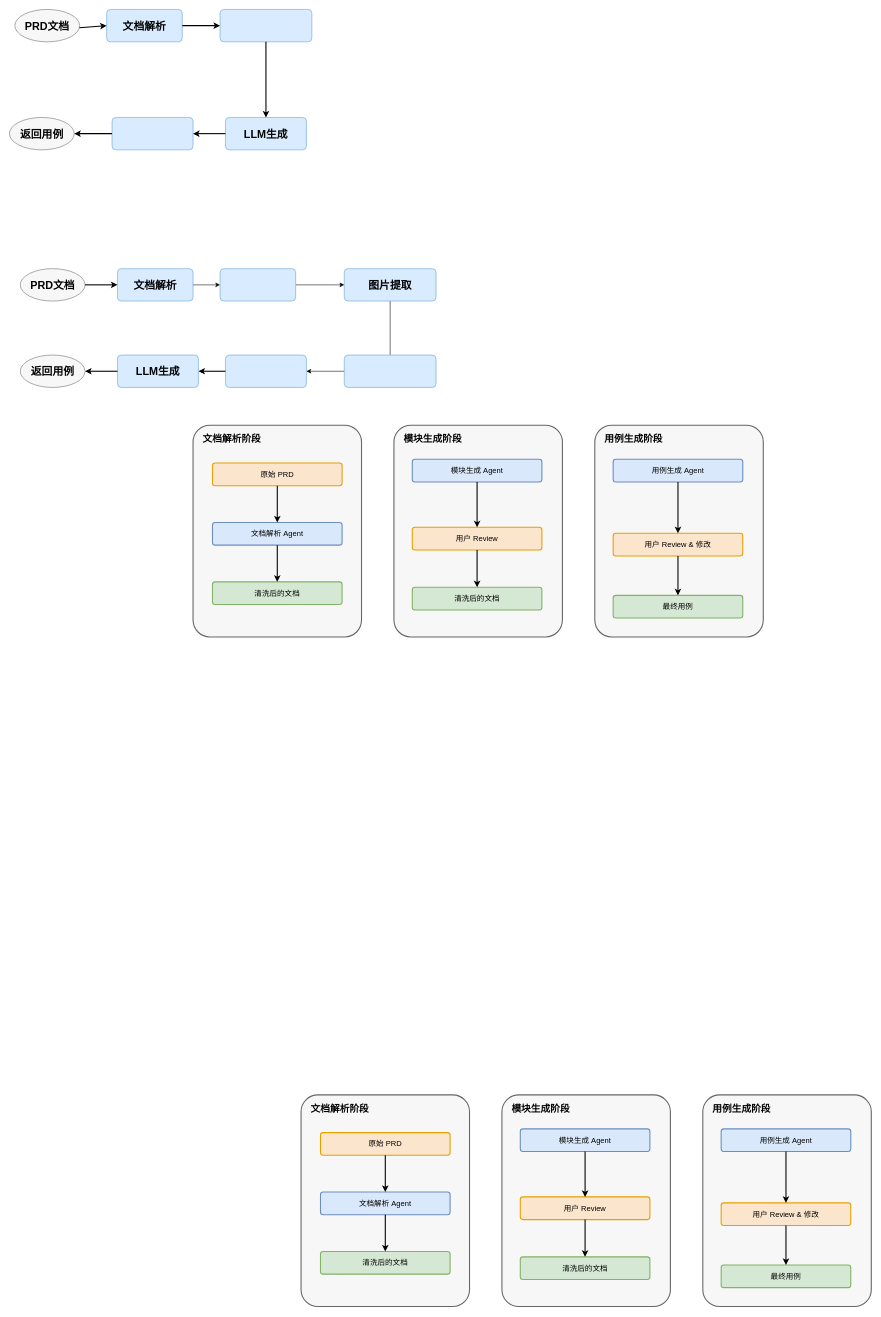
Some shapes in this 881 by 1317 pixel diagram are drawn without their labels. The shapes that lost their labels are listed below. From the top down, each one's centre as x and y in pixels, then its label:
point 266,25: Prompt
point 152,133: 格式解析
point 258,284: 图片检测
point 265,371: 结果回填
point 390,371: 并发调用VLM
